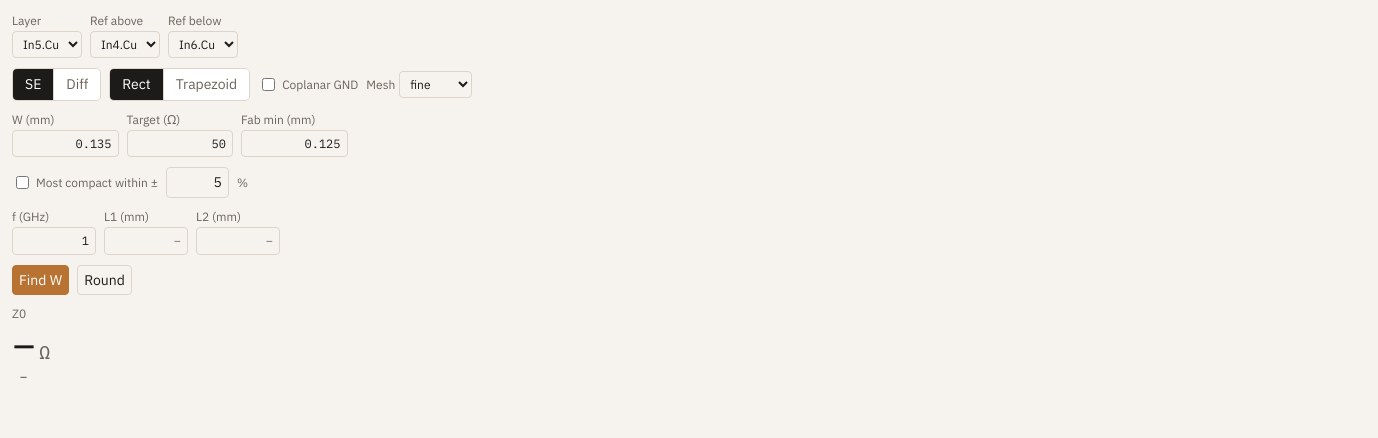
Calculator › a below-fab search keeps W, sends fmin and shows the reachable range in the display unit
The image size is (1378, 438).
Click the button "Find W": (41, 280) [12,264,69,295]
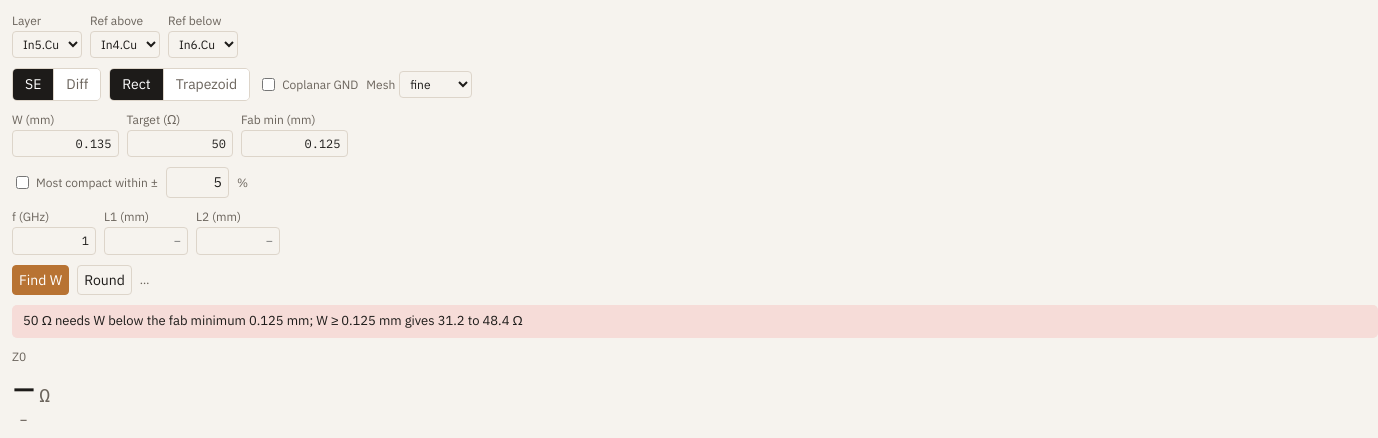
Expected: the field named "Width W" holds "0.135", [12,130,118,158]
Expected: the text "needs W below the fab minimum 0.125 mm; W ≥ 0.125 mm gives 31.2 to 48.4 Ω" is shown, [23,312,523,329]
